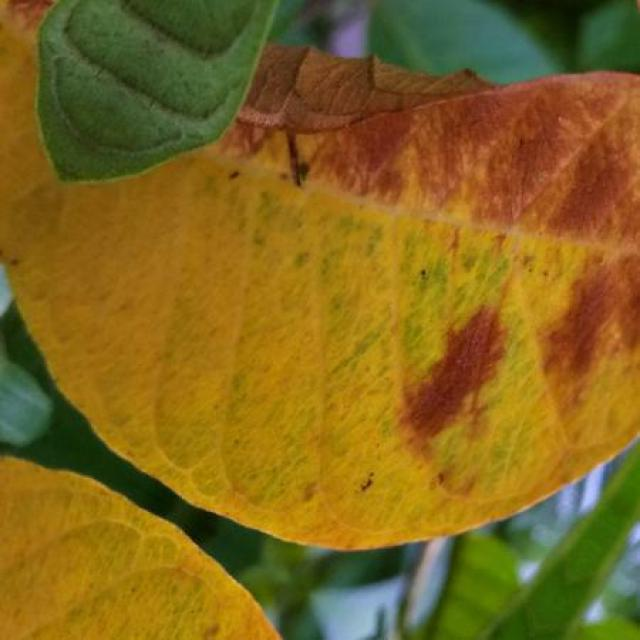Red Rust: (0, 0, 640, 548), (0, 458, 280, 640), (41, 2, 220, 174)
